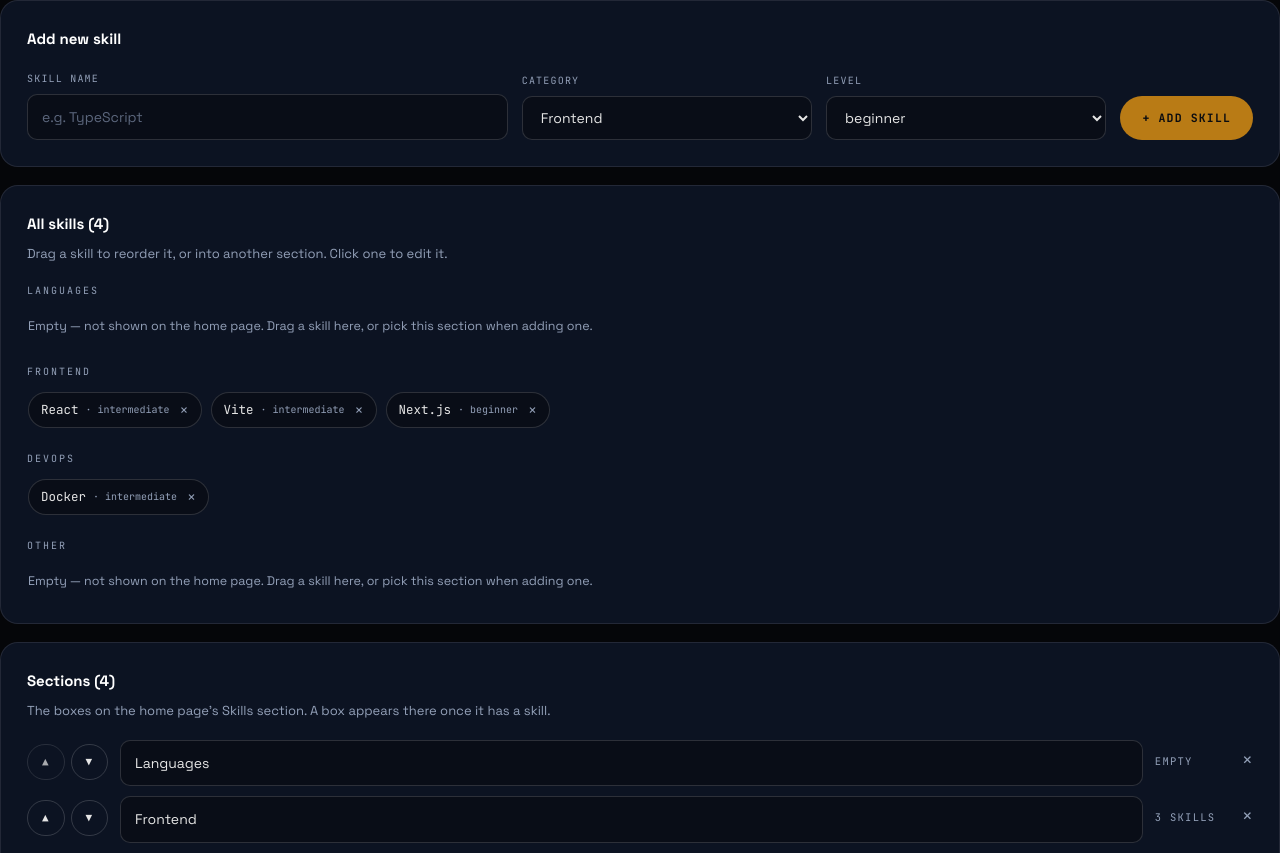
it: adding › puts a server refusal in a banner, not under a field
Type "Rust" into the field labelled "Skill name". click: (267, 117)
box: [27,94,508,140]
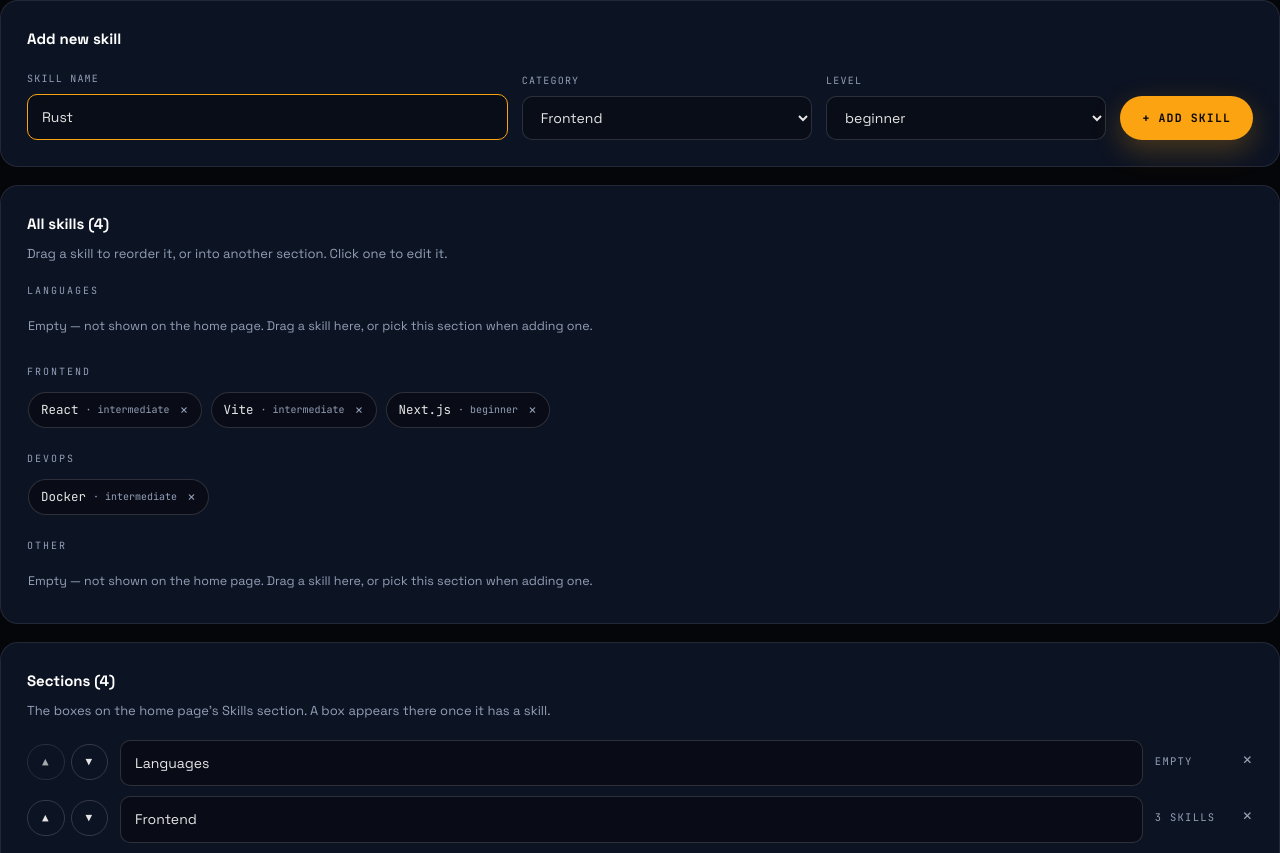
Click the button "+ ADD SKILL". click: click(1187, 118)
box: [1120,96,1253,140]
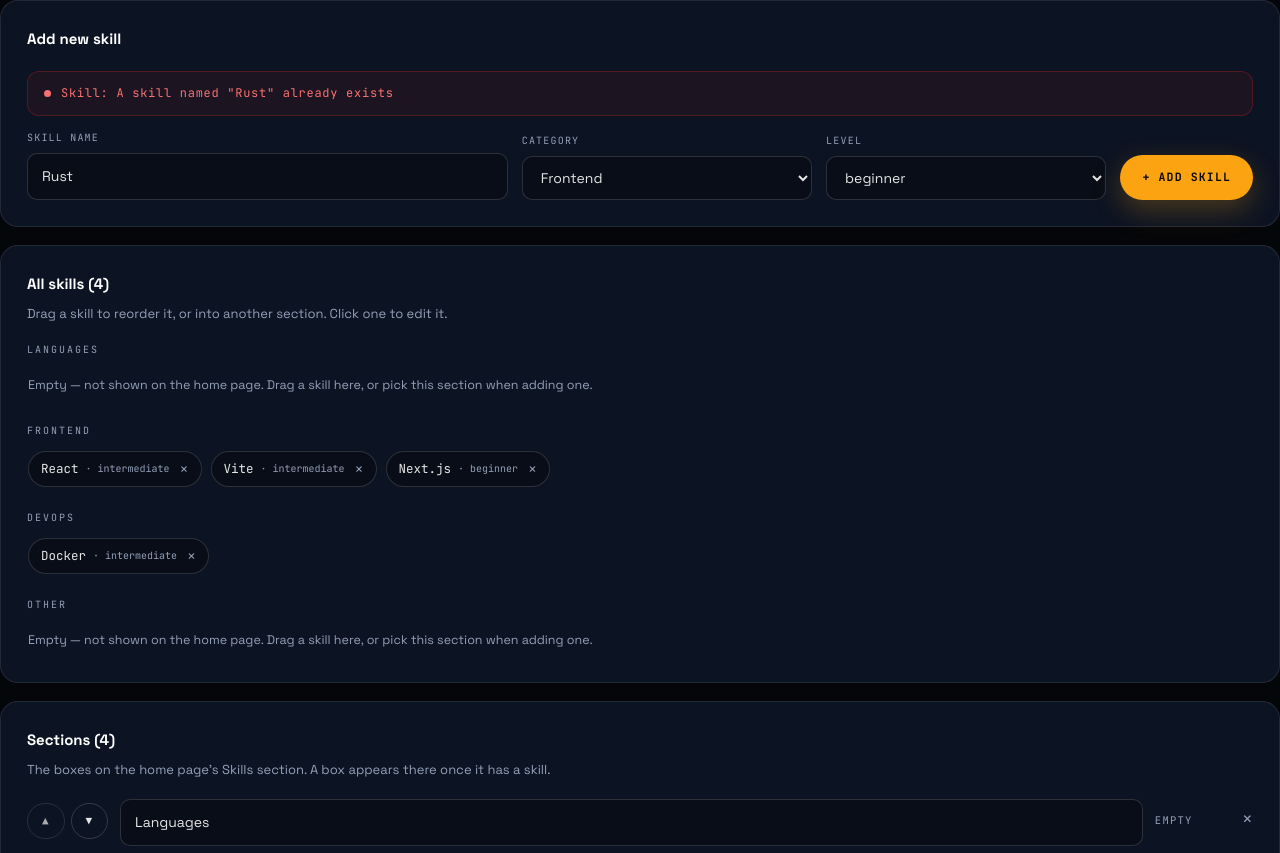
Now the text "Skill: A skill named \"Rust\" already exists" is shown, box [61,84,394,103]
